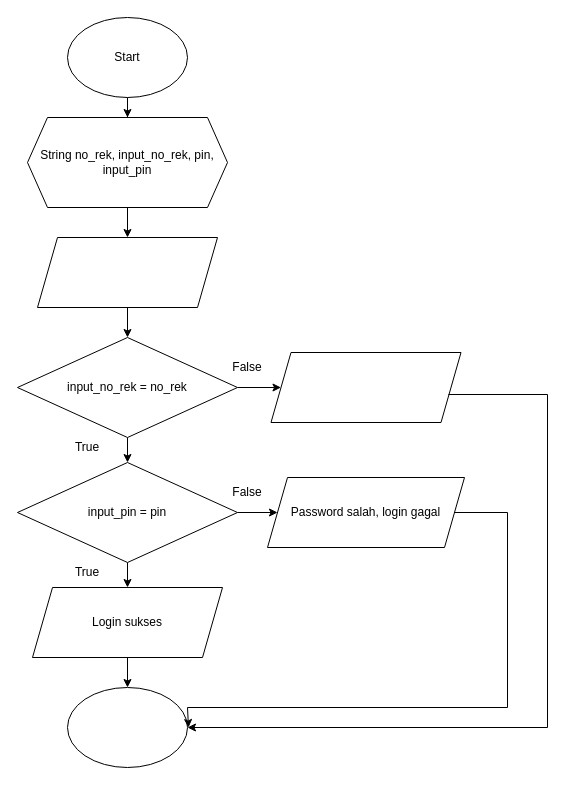
The diagram is 573 pixels wide and 785 high, and some of its shapes have lost their labels. The shapes that lost their labels are listed below. From the top down, each one's centre as x and y in pixels, then its label:
(127,272): input_no_rek, input_pin
(365,387): Login gagal
(127,727): End
